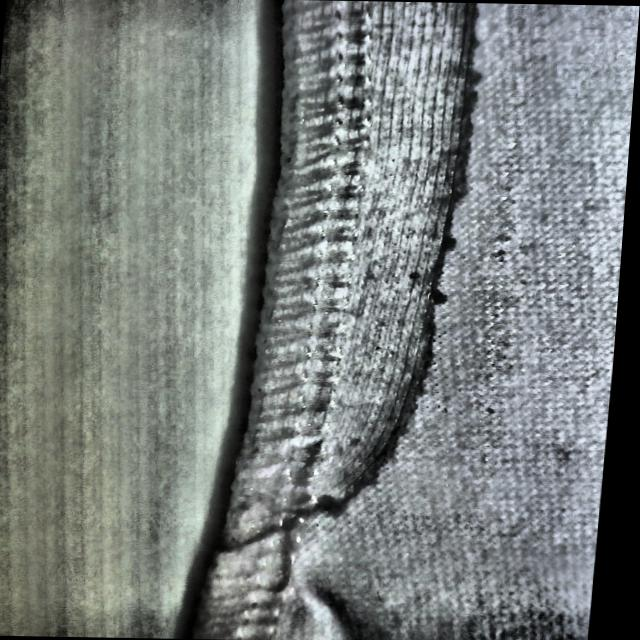seam: (244, 0, 563, 514)
